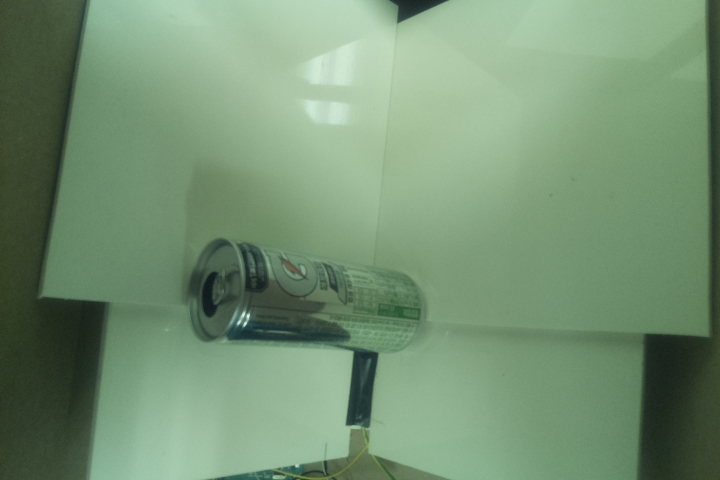can: (185, 236, 429, 356)
